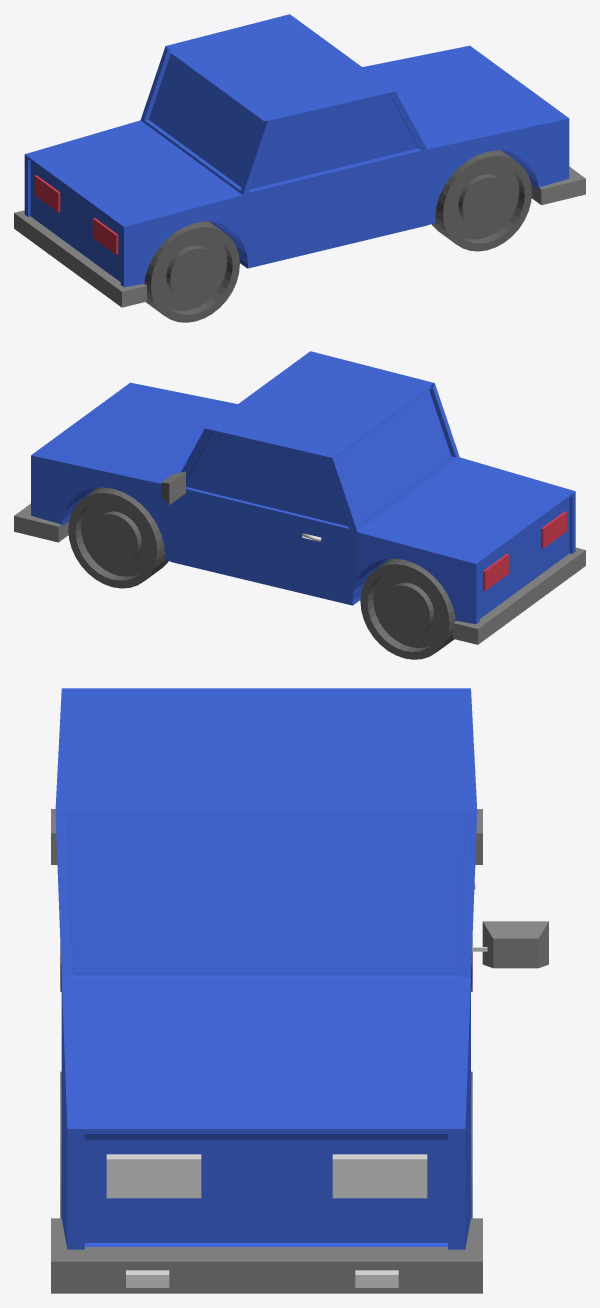
Rendered from Car.glb.
The picture shows the model from 3 angles, top to bottom: view 1: azimuth 30°, elevation 25°; view 2: azimuth 150°, elevation 25°; view 3: azimuth 270°, elevation 25°; orthographic projection. The views are drawn at different scales.
Visible parts, largest first — view 1: Body, Wheel, Cube.001, Cube, Cube.009, Cube.010; view 2: Body, Wheel, Cube.001, Cube, Cube.002, Cube.009, Cube.010; view 3: Body, Cube, Cube.005, Cube.006, Cube.002, Cube.007, Cube.008.
Part boxes in pixels (x1=…): Body: x1=24, y1=14, x2=569, y2=287; Wheel: x1=144, y1=150, x2=531, y2=322; Cube.001: x1=14, y1=210, x2=146, y2=307; Cube: x1=531, y1=166, x2=585, y2=205; Cube.009: x1=92, y1=217, x2=118, y2=254; Cube.010: x1=34, y1=175, x2=60, y2=212; Body: x1=31, y1=351, x2=575, y2=624; Wheel: x1=68, y1=487, x2=455, y2=659; Cube.001: x1=453, y1=547, x2=585, y2=644; Cube: x1=14, y1=503, x2=68, y2=542; Cube.002: x1=161, y1=471, x2=185, y2=504; Cube.009: x1=541, y1=511, x2=566, y2=548; Cube.010: x1=483, y1=554, x2=508, y2=590; Body: x1=55, y1=688, x2=477, y2=1249; Cube: x1=51, y1=1218, x2=482, y2=1293; Cube.005: x1=106, y1=1154, x2=201, y2=1198; Cube.006: x1=332, y1=1154, x2=427, y2=1198; Cube.002: x1=482, y1=921, x2=548, y2=968; Cube.007: x1=126, y1=1270, x2=169, y2=1287; Cube.008: x1=355, y1=1270, x2=398, y2=1287.
Bounding box in the file's own units: 10.53 × 3.92 × 4.84.
